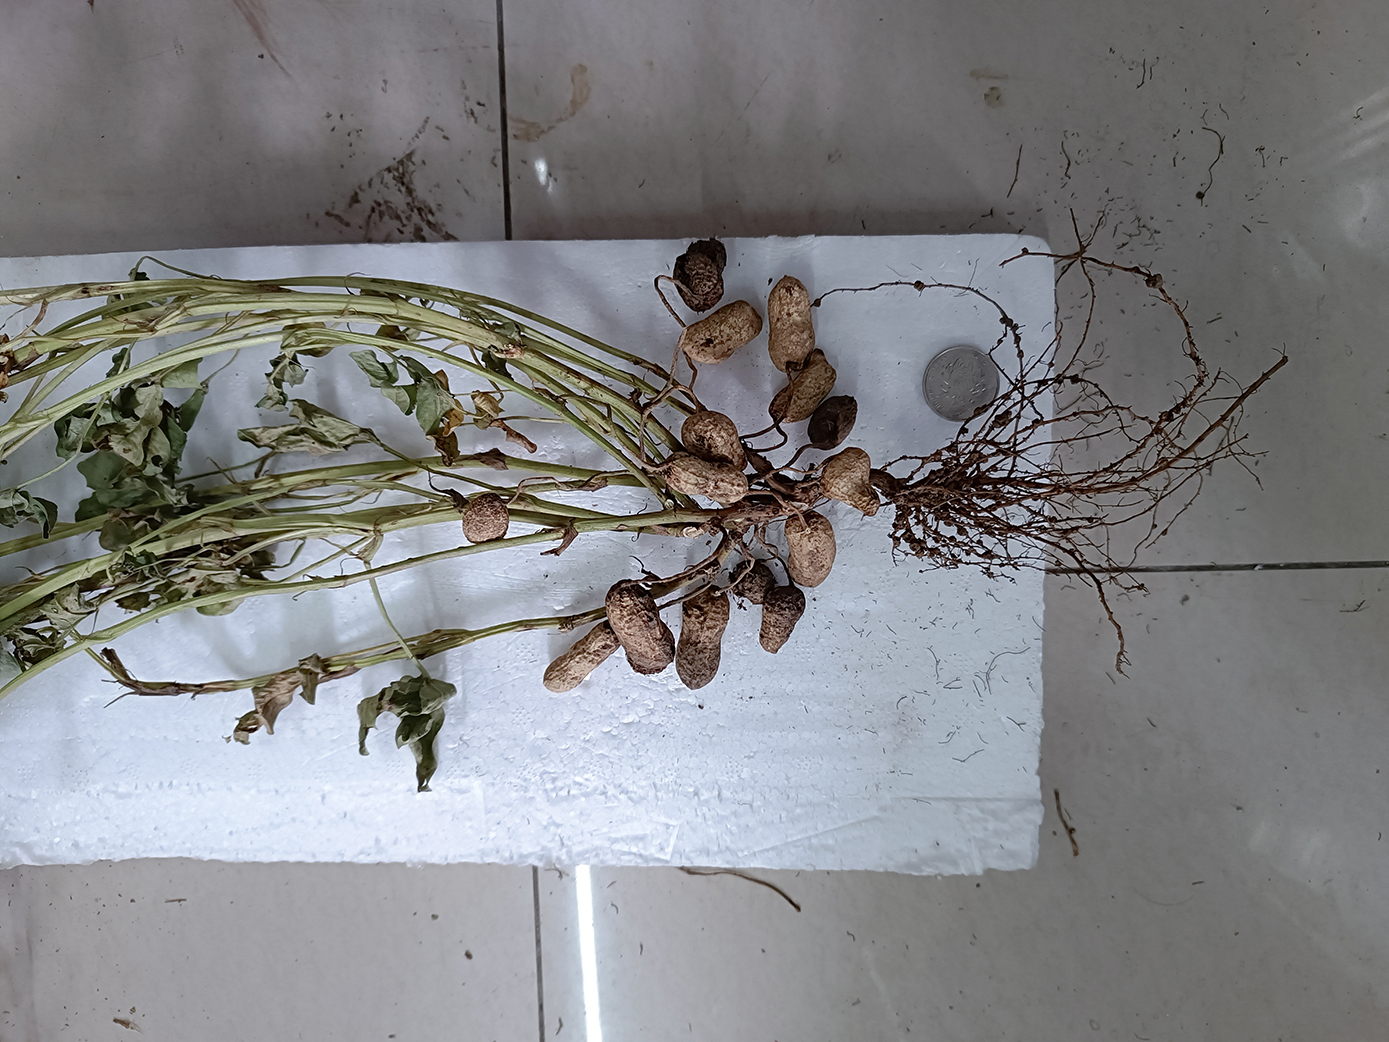h: (678, 301, 764, 364), (768, 350, 840, 425), (544, 624, 620, 693), (660, 451, 748, 506), (782, 508, 840, 587), (767, 276, 812, 374), (820, 448, 879, 518), (682, 407, 748, 470), (462, 493, 509, 545)
l: (605, 577, 675, 676), (675, 584, 730, 690), (671, 239, 727, 310), (757, 587, 807, 656), (806, 398, 858, 449), (726, 556, 775, 602)
